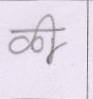i_matra: (41, 14, 59, 63)
